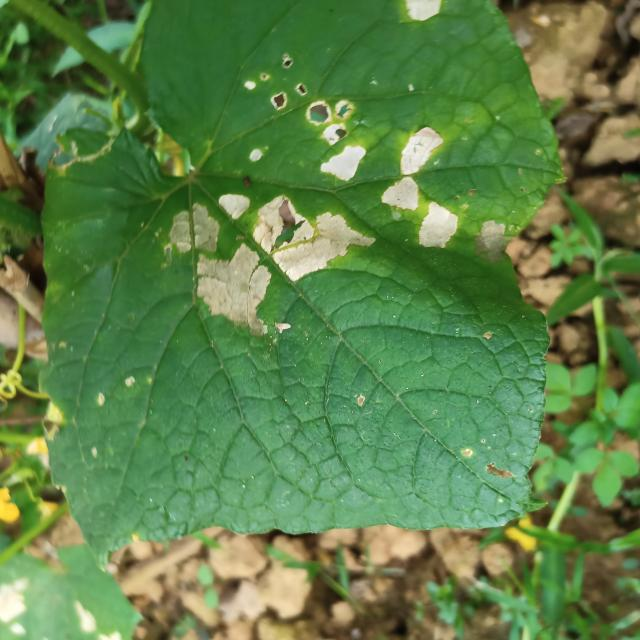disease_cucumber: (158, 188, 380, 342), (236, 51, 366, 197), (379, 122, 461, 254), (390, 0, 448, 24)
